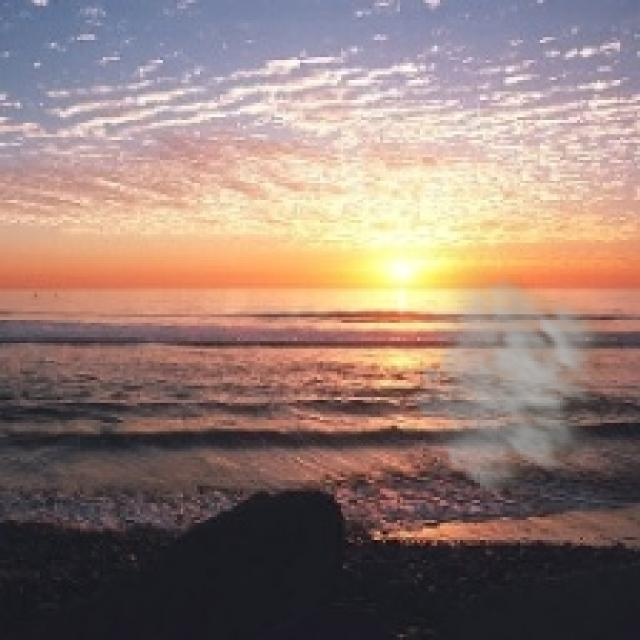Smoke: (406, 266, 638, 506)
